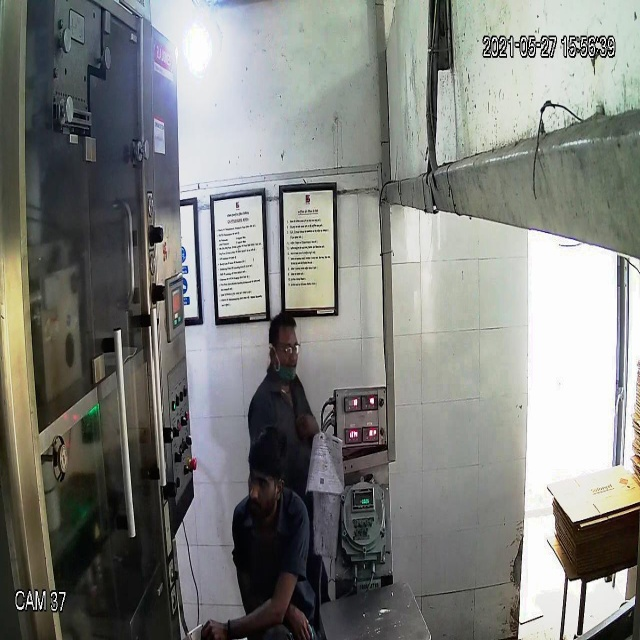Gafas: (272, 343, 303, 364)
Sin_gafas: (244, 465, 281, 499)
